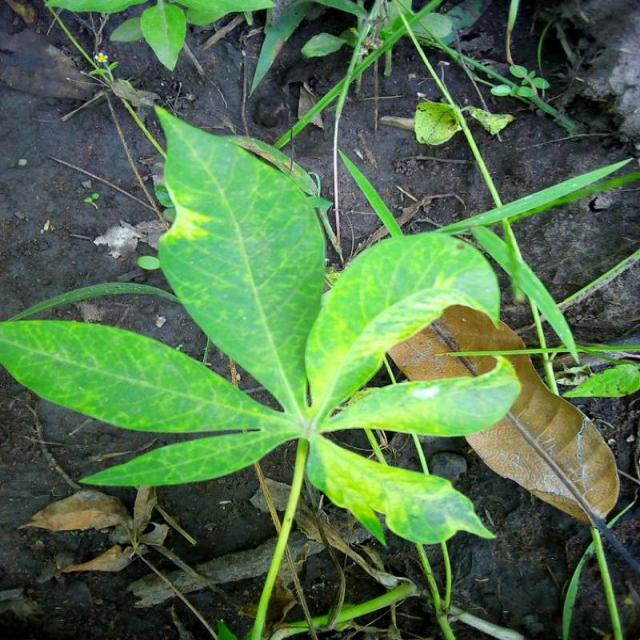cassava leaf: (153, 104, 327, 422), (386, 301, 620, 528), (303, 229, 501, 422), (304, 432, 497, 546)
